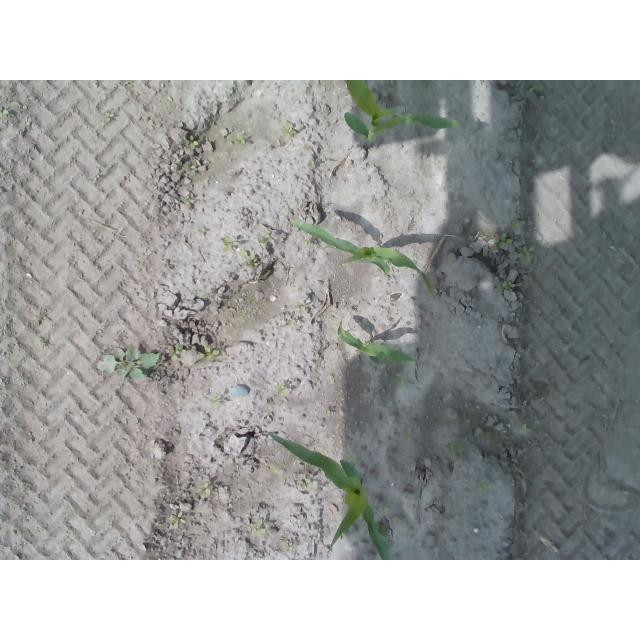Maize: (269, 430, 393, 560), (290, 217, 435, 295), (343, 80, 460, 142), (336, 327, 420, 372)
Weeds: (97, 342, 160, 382), (197, 346, 219, 363), (239, 250, 261, 266), (517, 245, 536, 263), (446, 440, 466, 457), (169, 512, 188, 528), (170, 344, 185, 361), (221, 235, 235, 253), (184, 135, 200, 150), (496, 280, 513, 293), (281, 122, 295, 137), (198, 482, 210, 499), (304, 479, 319, 492), (499, 234, 514, 247), (273, 384, 288, 397), (257, 232, 271, 245), (376, 505, 392, 516), (252, 527, 269, 537), (210, 394, 223, 406), (391, 373, 406, 383), (182, 195, 194, 205), (512, 222, 525, 231), (0, 105, 8, 119), (519, 423, 529, 434), (196, 225, 205, 236), (287, 542, 294, 552), (322, 410, 332, 417)
